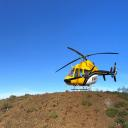helicopter: (56, 47, 121, 94)
